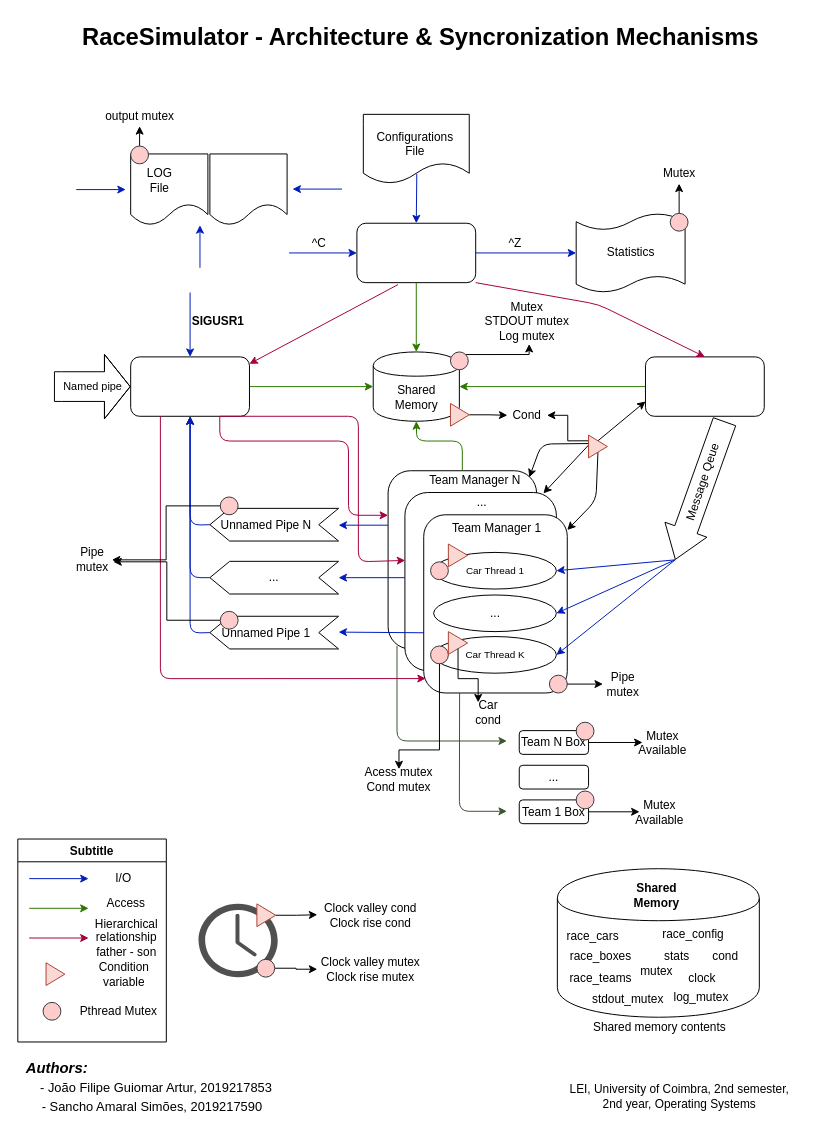
This 818x1133 diagram has some shape labels left out. Here are the shapes that lost their labels. From the top down, the centre of each, then its label:
At point 248,189: "DEBUG/ EXCEPTION output".
At point 416,252: "Race Simulator".
At point 189,386: "Race Manager".
At point 704,386: "Malfunction Manager".
